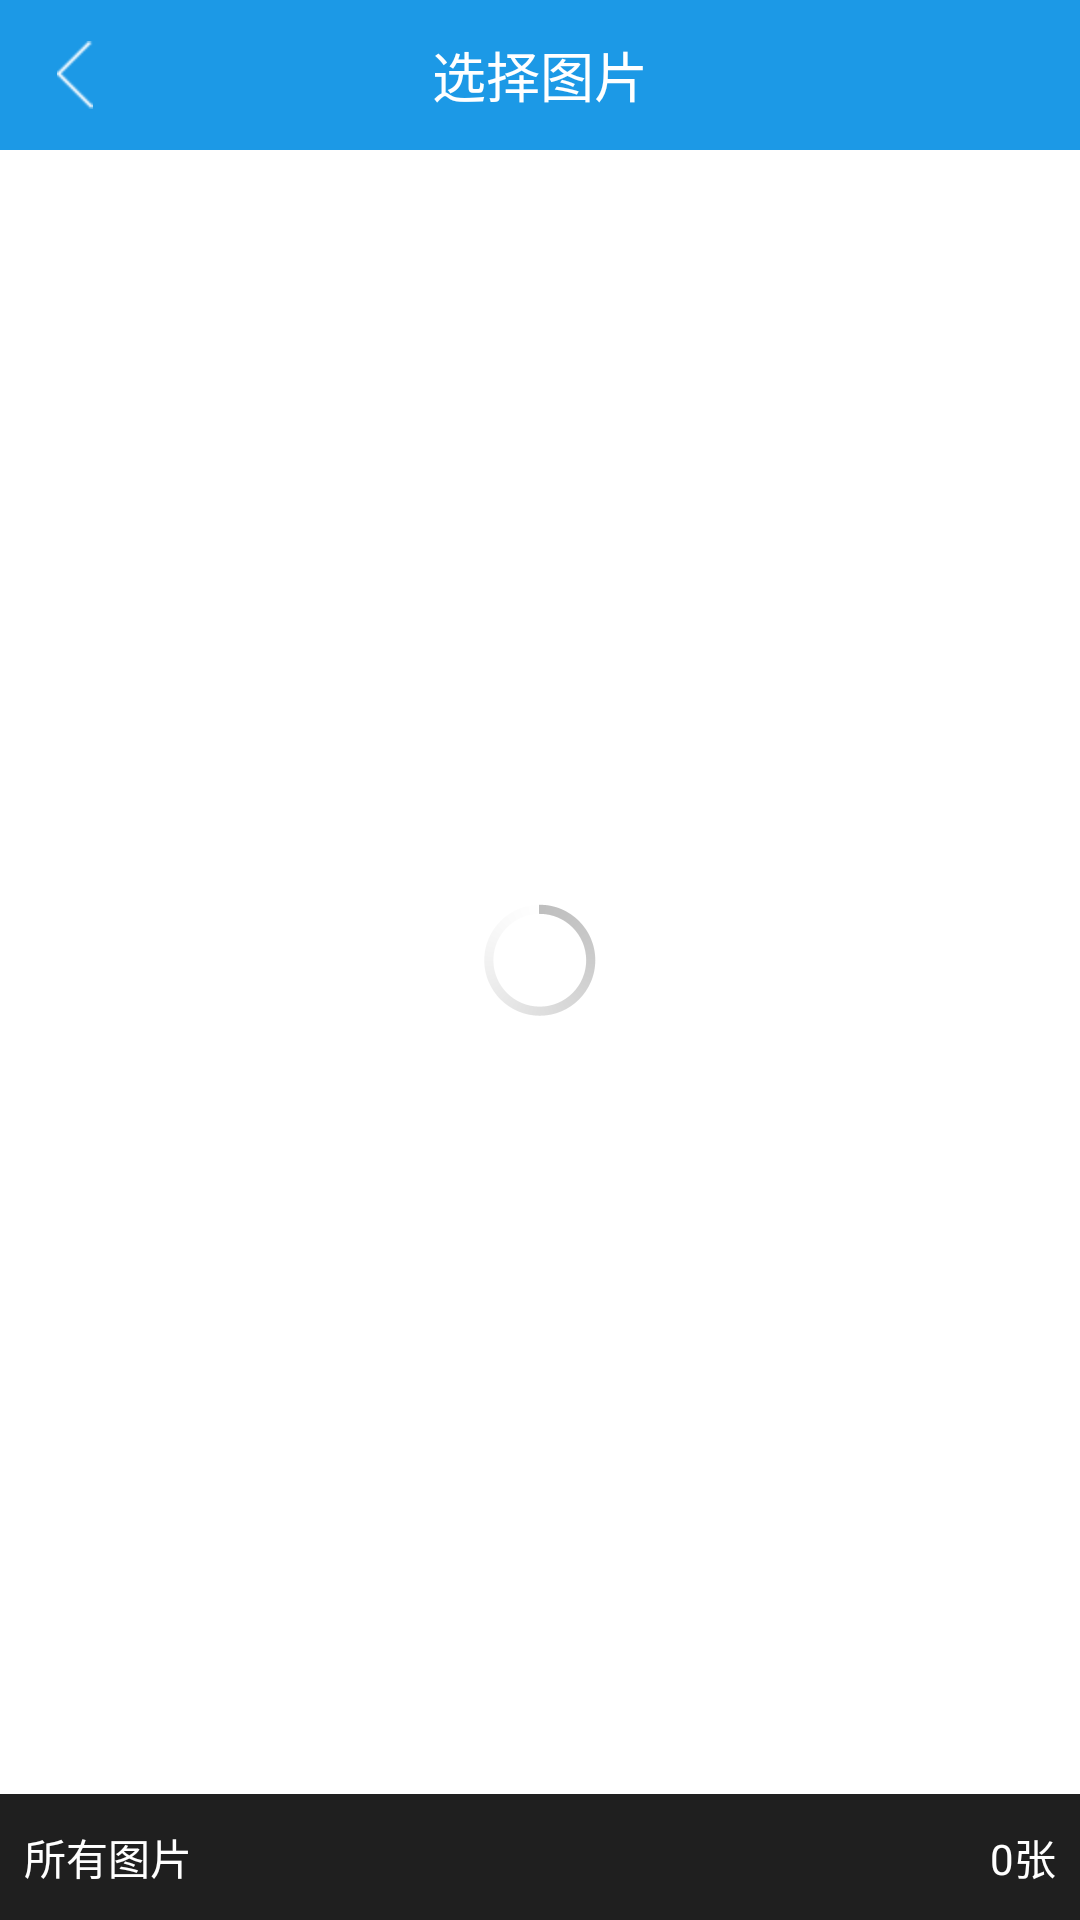

Named icons in this screenshot (1080*1920) and their centers, (x,y):
lib back: (75,75)
